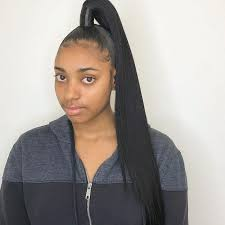person: (53, 26, 118, 126)
